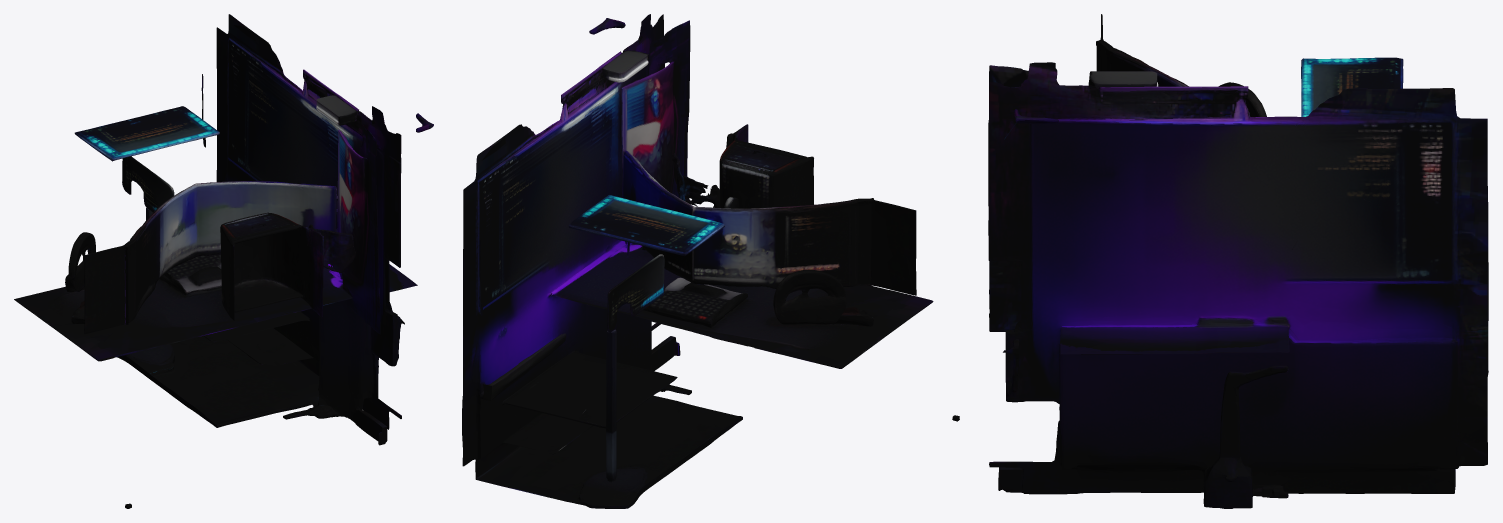
File: sample (2).glb
The picture shows the model from 3 angles, left to right: view 1: azimuth 30°, elevation 25°; view 2: azimuth 150°, elevation 25°; view 3: azimuth 270°, elevation 25°; orthographic projection. The views are drawn at different scales.
Visible parts, largest first — view 1: world; view 2: world; view 3: world.
Boxes of the visible parts, x1,y1,x2,y2 form: world: (14, 14, 433, 508); world: (462, 14, 959, 508); world: (988, 14, 1488, 508).
Size of the model in its own units: 1 by 0.9635 by 1.
1 material, 1 textured.
